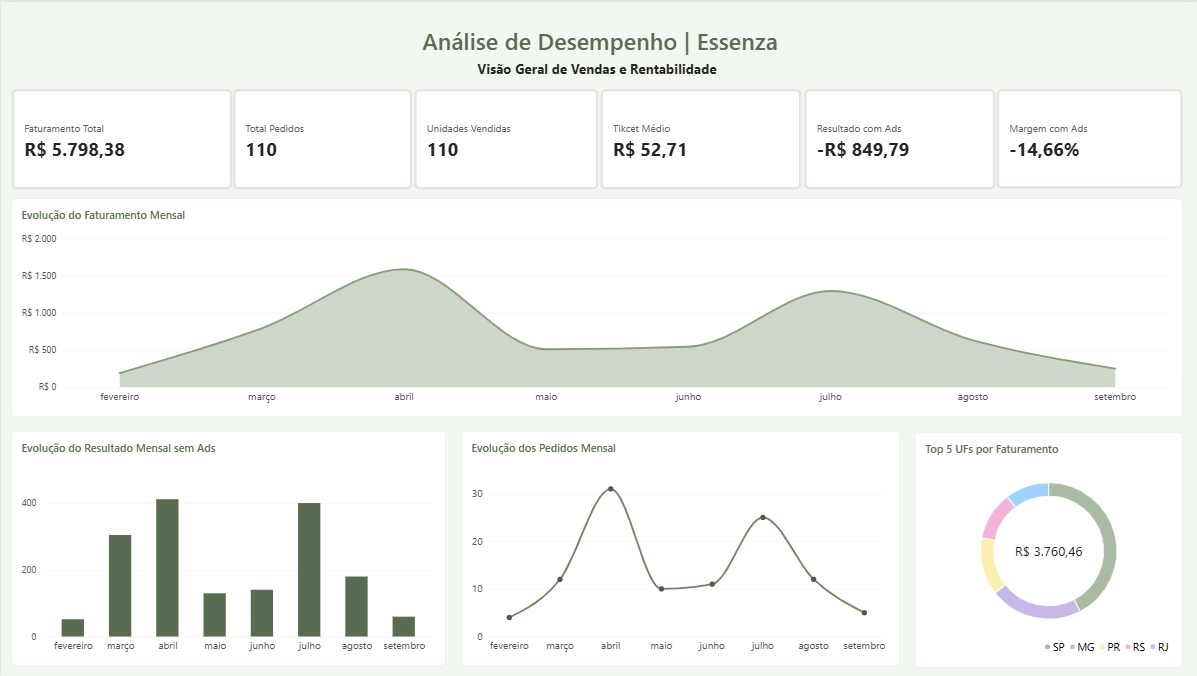

This screenshot's page, from the dashboard's own definition file:
{"tool":"powerbi","page":{"name":"Visão Geral","canvas":[1920,1080],"ordinal":0},"visuals":[{"type":"cardVisual","fields":{"Data":["shopee vendas.Faturamento Total Exibição"]},"box":[16.7,137.5,355.1,163.3],"z":0},{"type":"cardVisual","fields":{"Data":["shopee vendas.Total Pedidos"]},"box":[370.8,137.5,289.8,163.3],"z":1000},{"type":"cardVisual","fields":{"Data":["shopee vendas.Unidades Vendidas"]},"box":[660.4,137.5,298,163.3],"z":2000},{"type":"cardVisual","fields":{"Data":["shopee vendas.Tikcet Médio"]},"box":[958.3,137.5,324.5,163.3],"z":3000},{"type":"cardVisual","fields":{"Data":["shopee vendas.Resultado com Ads"]},"box":[1283.3,137.5,308.2,163.3],"z":4000},{"type":"cardVisual","fields":{"Data":["shopee vendas.Margem com Ads"]},"box":[1591.7,137.5,300,162.5],"z":5000},{"type":"areaChart","title":"Evolução do Faturamento Mensal","fields":{"Category":["shopee vendas.Data.Variation.Hierarquia de datas.Ano","shopee vendas.Data.Variation.Hierarquia de datas.Trimestre","shopee vendas.Data.Variation.Hierarquia de datas.Mês","shopee vendas.Data.Variation.Hierarquia de datas.Dia"],"Y":["shopee vendas.Faturamento Total1"]},"box":[16.7,314.6,1875,350],"z":6000},{"type":"lineChart","title":"Evolução dos Pedidos Mensal","fields":{"Category":["shopee vendas.Data.Variation.Hierarquia de datas.Ano","shopee vendas.Data.Variation.Hierarquia de datas.Trimestre","shopee vendas.Data.Variation.Hierarquia de datas.Mês","shopee vendas.Data.Variation.Hierarquia de datas.Dia"],"Y":["shopee vendas.Total Pedidos"]},"box":[735.4,685.4,702.1,377.1],"z":7000},{"type":"columnChart","title":"Evolução do Resultado Mensal sem Ads","fields":{"Category":["shopee vendas.Data.Variation.Hierarquia de datas.Ano","shopee vendas.Data.Variation.Hierarquia de datas.Trimestre","shopee vendas.Data.Variation.Hierarquia de datas.Mês","shopee vendas.Data.Variation.Hierarquia de datas.Dia"],"Y":["shopee vendas.Resultado sem Ads"]},"box":[16.7,685.4,695.8,377.1],"z":8000},{"type":"textbox","box":[614.6,35.4,688.9,73.3],"z":9000},{"type":"textbox","box":[695.8,91.7,515.6,31.1],"z":10000},{"type":"donutChart","title":"Top 5 UFs  por Faturamento","fields":{"Category":["shopee vendas.UF Sigla"],"Y":["shopee vendas.Faturamento Total1"]},"box":[1462.5,687.5,429.2,377.1],"z":11000}]}

Visuals, with their boxes in screenshot pixels (x1, y1, x2, y2), scaled from the page's 1920x1080 canvas onto the 1197x676 screenshot:
cardVisual - shopee vendas.Faturamento Total Exibição: 10,86,232,188
cardVisual - shopee vendas.Total Pedidos: 231,86,412,188
cardVisual - shopee vendas.Unidades Vendidas: 412,86,598,188
cardVisual - shopee vendas.Tikcet Médio: 597,86,800,188
cardVisual - shopee vendas.Resultado com Ads: 800,86,992,188
cardVisual - shopee vendas.Margem com Ads: 992,86,1179,188
"Evolução do Faturamento Mensal" areaChart: 10,197,1179,416
"Evolução dos Pedidos Mensal" lineChart: 458,429,896,665
"Evolução do Resultado Mensal sem Ads" columnChart: 10,429,444,665
textbox: 383,22,813,68
textbox: 434,57,755,77
"Top 5 UFs  por Faturamento" donutChart: 912,430,1179,666
